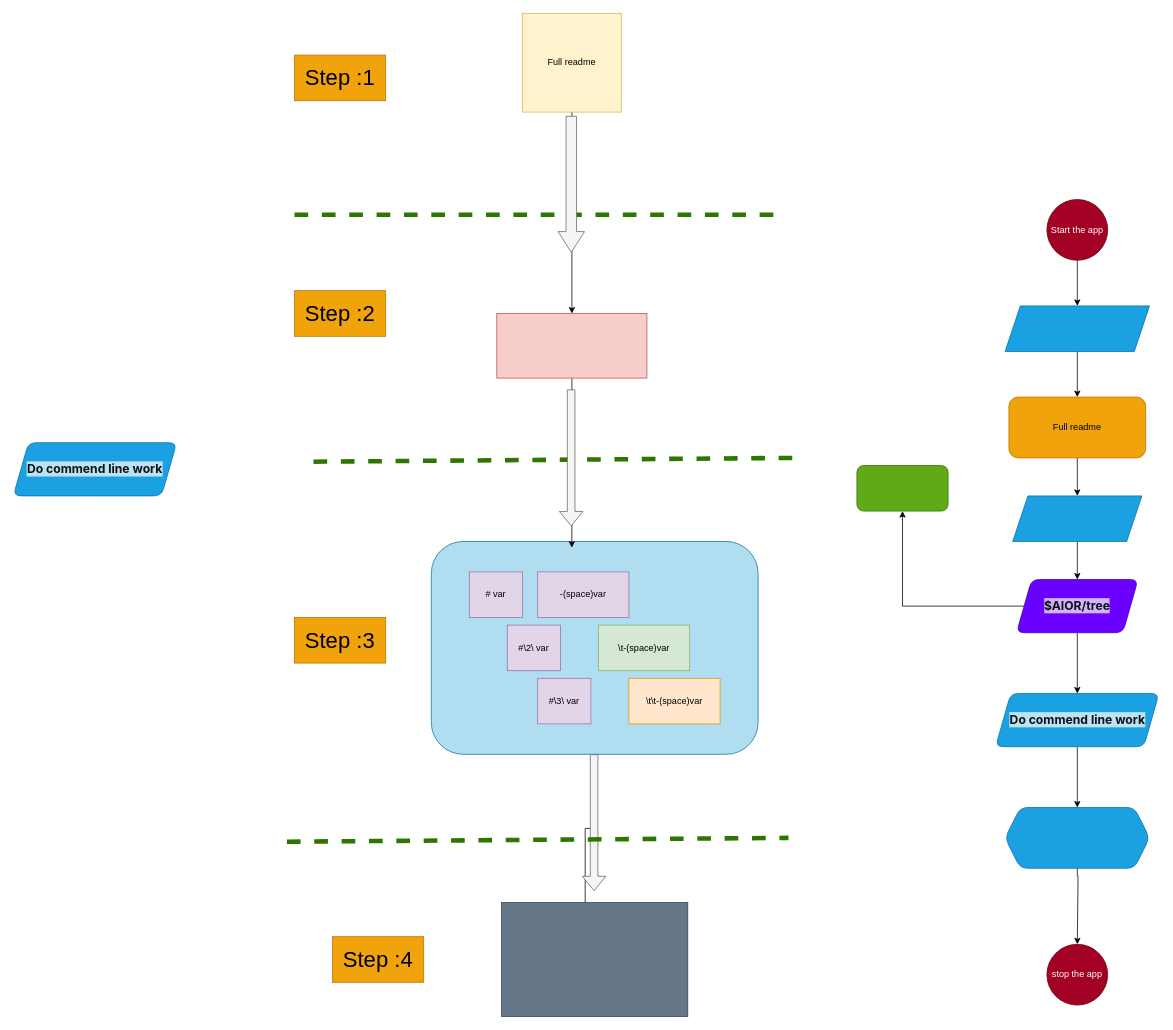
The diagram is 1173 pixels wide and 1030 high, and some of its shapes have lost their labels. Each missing label, with the centre of its shape:
"Clean # from line and space" belongs at [571,345].
"Clean \2\ Clean \3\" belongs at [594,959].
"Make var that can replace $ to any charcter user wish" belongs at [902,488].
"Re-place $AIOR with the output" belongs at [1077,837].
"Read all files and write them in one file" belongs at [1077,328].
"Search about command line" belongs at [1077,518].
